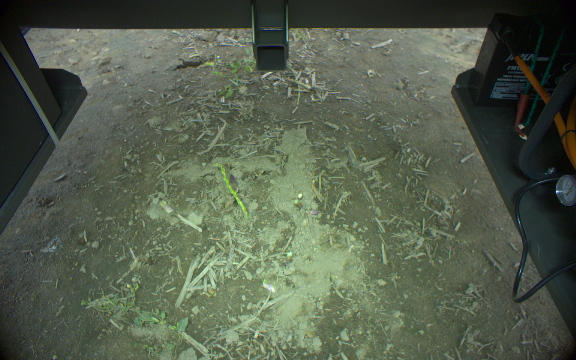aspa: (211, 163, 248, 219)
